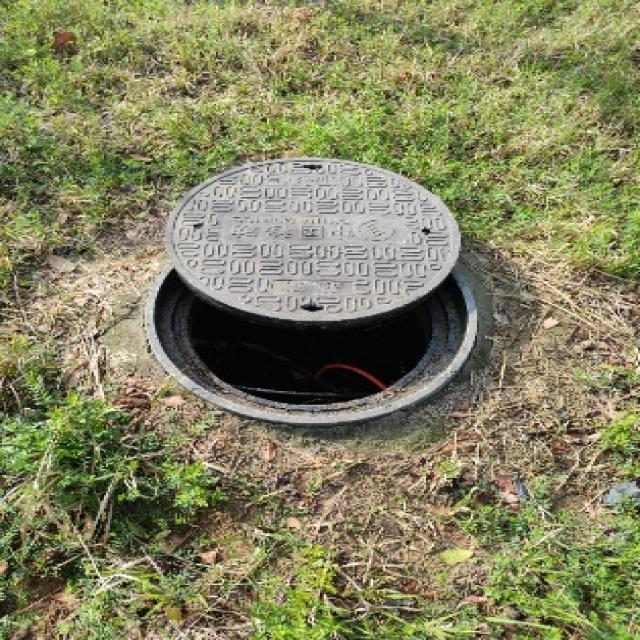Faulty: (126, 148, 508, 444)
